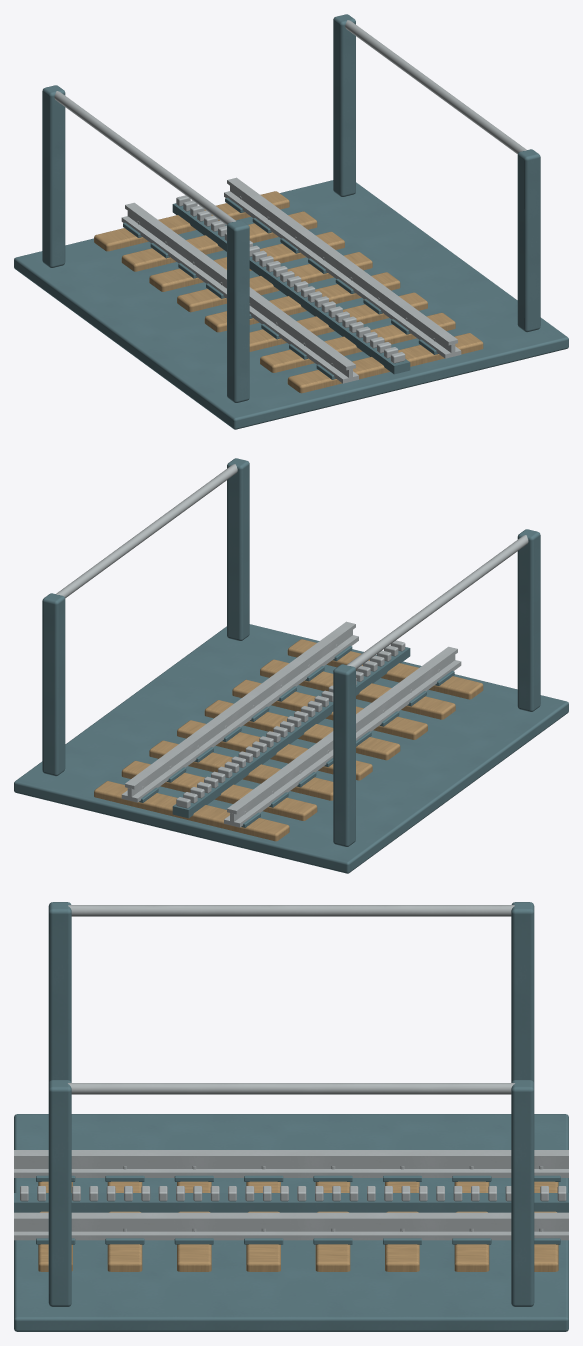
Rendered from gorgehold-survivor-gallery-and-operations-railway-uppe-f70e2f67__32884.glb.
The picture shows the model from 3 angles, top to bottom: view 1: azimuth 30°, elevation 25°; view 2: azimuth 150°, elevation 25°; view 3: azimuth 270°, elevation 25°; orthographic projection. The views are drawn at different scales.
Visible parts, largest first — view 1: railway-upper-unloading-cradle; view 2: railway-upper-unloading-cradle; view 3: railway-upper-unloading-cradle.
Boxes of the visible parts, x1,y1,x2,y2 form: railway-upper-unloading-cradle: [14, 14, 568, 429]; railway-upper-unloading-cradle: [14, 458, 568, 873]; railway-upper-unloading-cradle: [14, 902, 568, 1331].
Size of the model in its own units: 2.1 by 1.13 by 2.4.
Materials: 3 (3 with a texture image).
